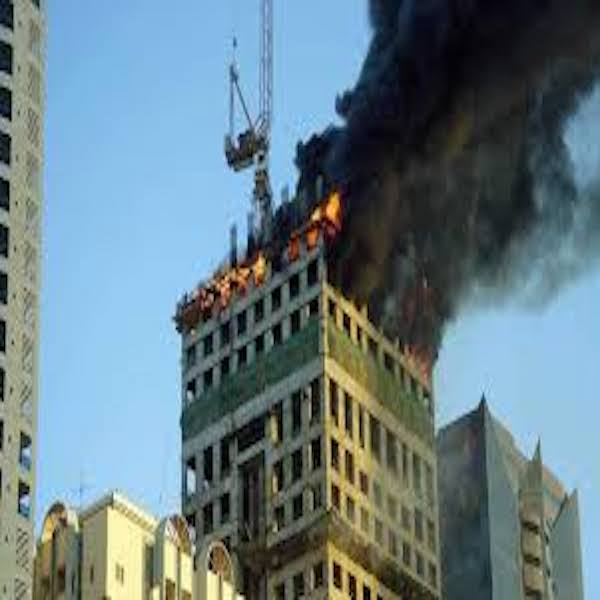fire: (304, 192, 378, 259), (245, 237, 273, 277), (199, 278, 244, 299)
